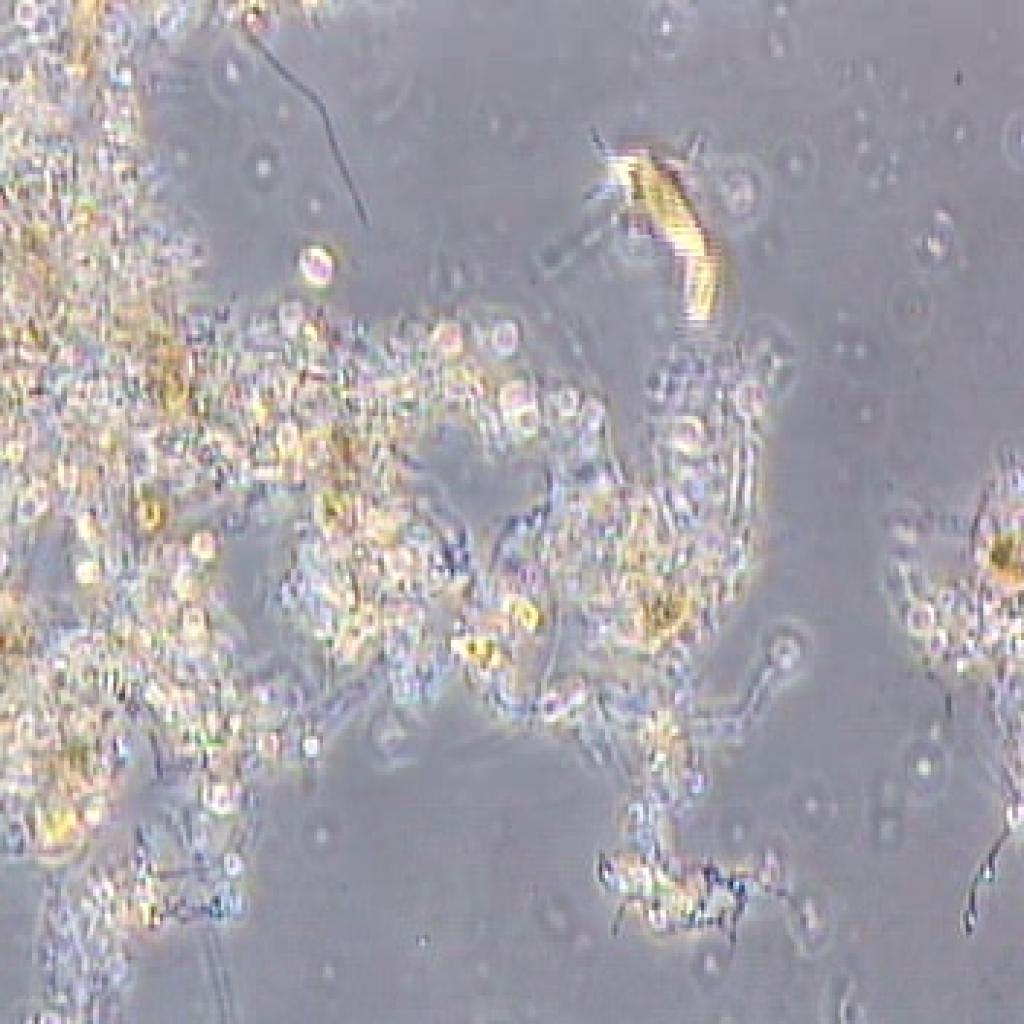Chaetonotus: (582, 121, 727, 341)
